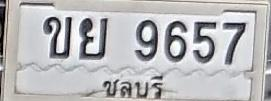5: (193, 20, 217, 62)
6: (164, 20, 188, 62)
7: (223, 20, 246, 64)
9: (135, 19, 158, 60)
A02: (42, 15, 73, 58)
A34: (78, 16, 108, 60)
CBI: (100, 72, 165, 100)
